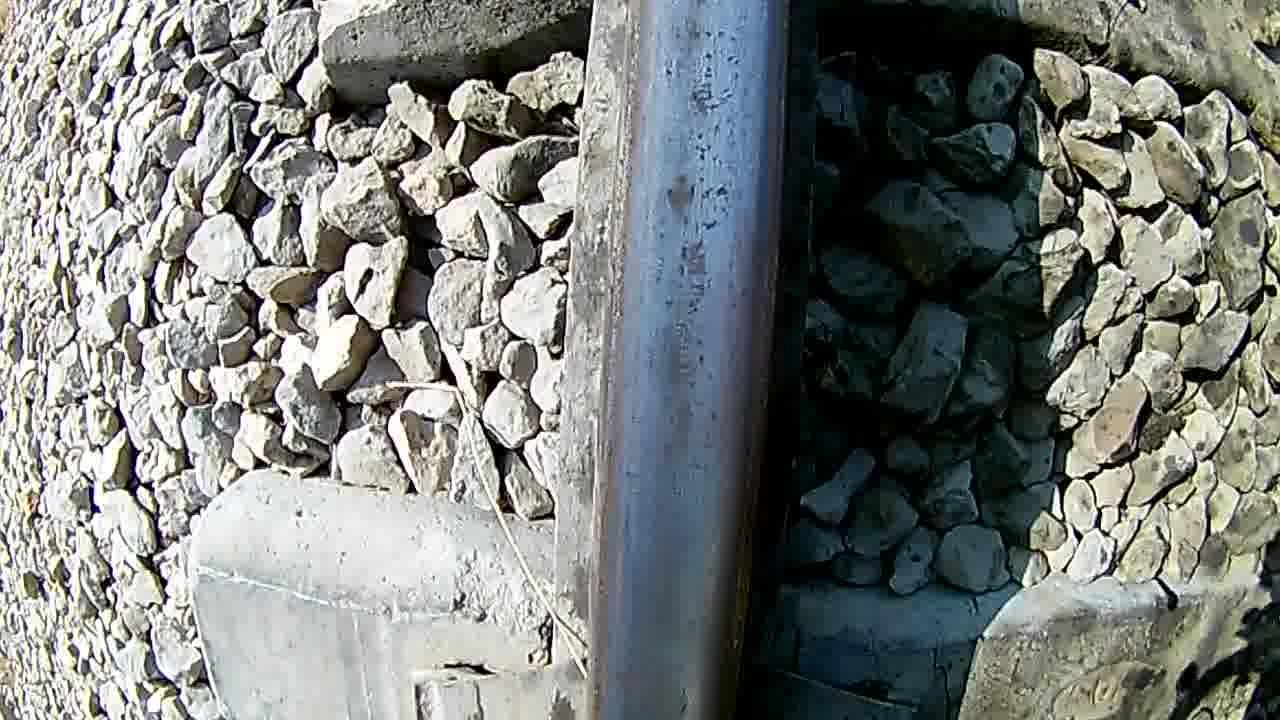crack: (595, 3, 786, 720)
